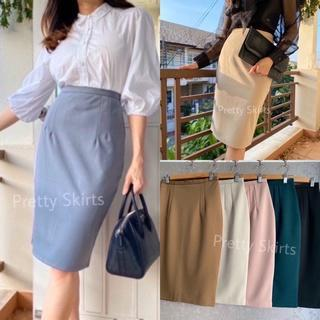shirt: (7, 7, 166, 132)
skirt: (26, 78, 127, 283), (205, 23, 281, 147)
